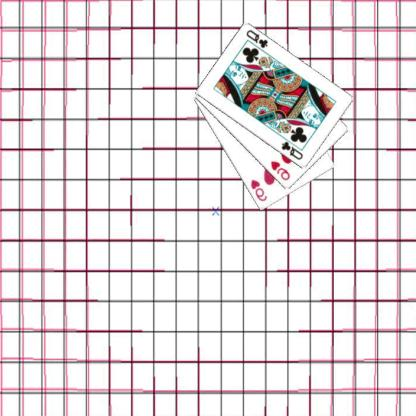6H: (250, 176, 270, 202)
9H: (270, 159, 293, 182)
QC: (245, 27, 271, 50), (281, 139, 306, 161)
